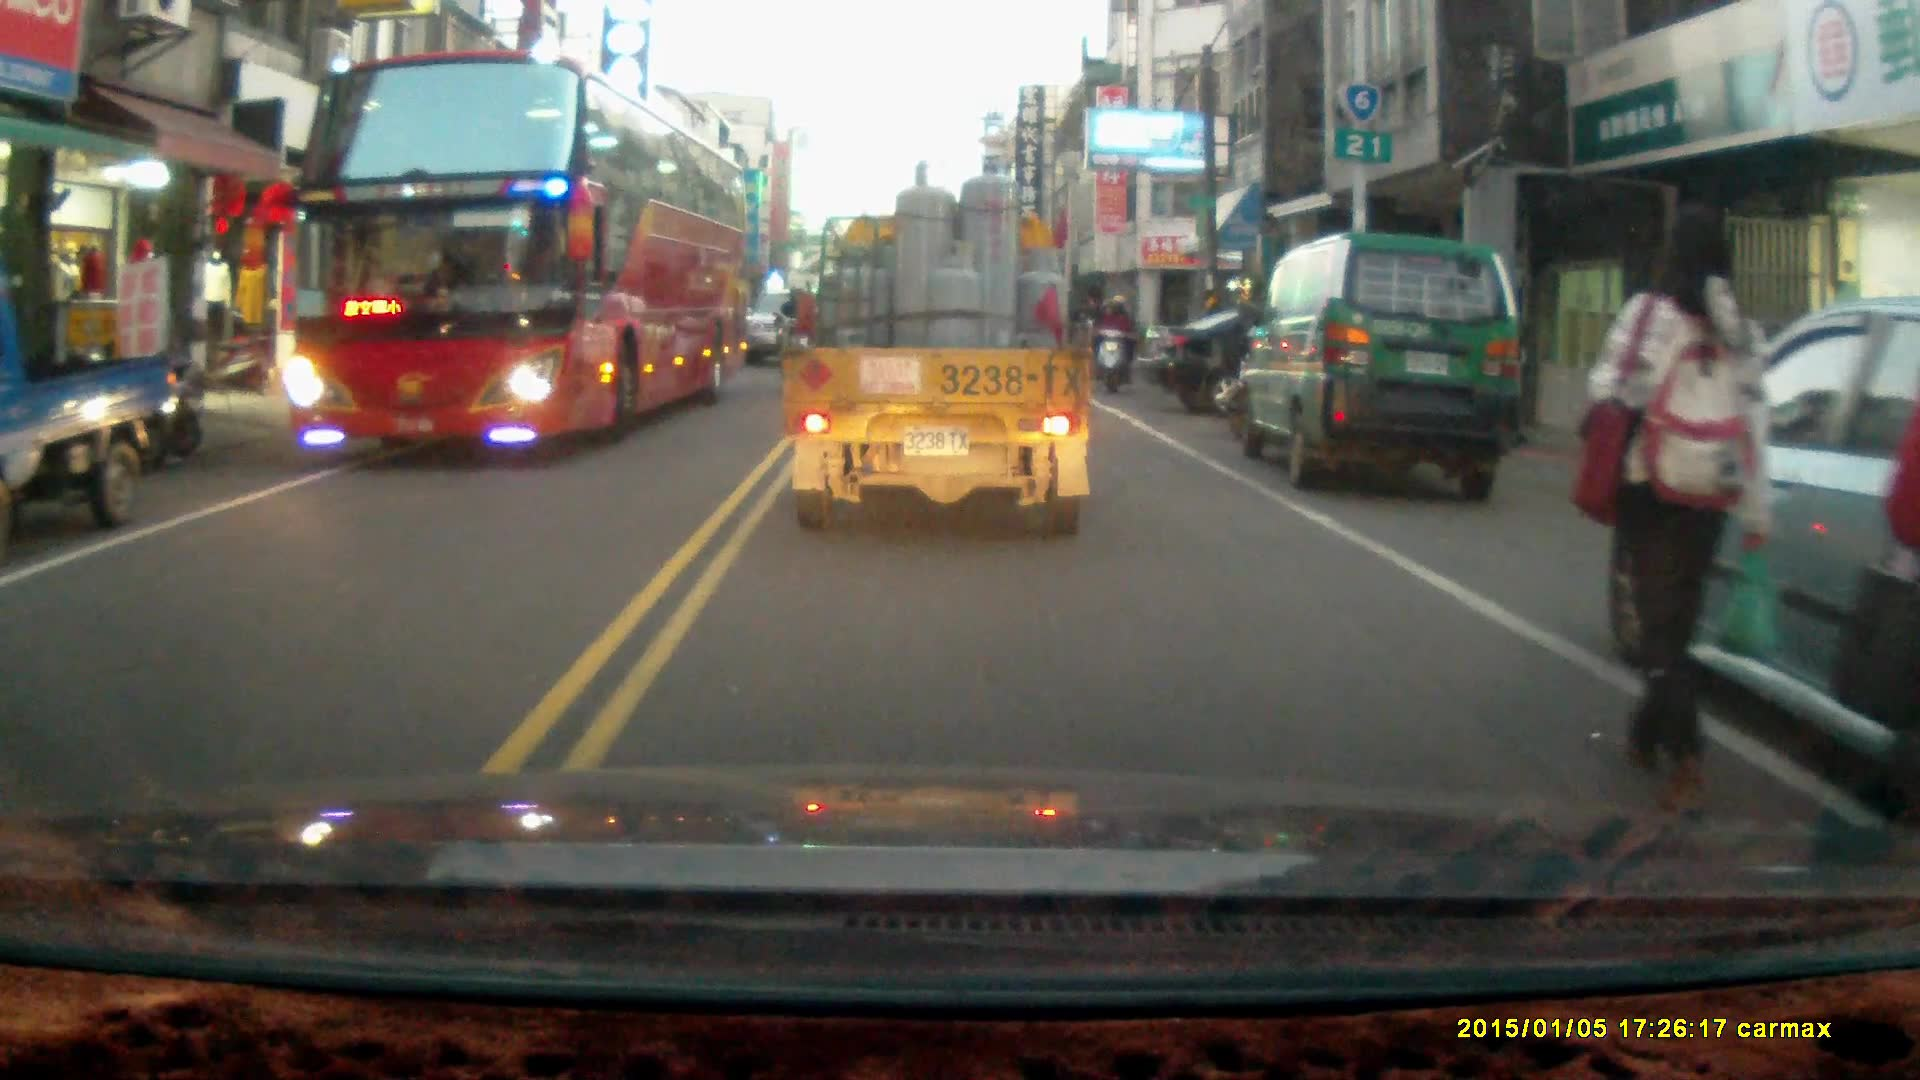pedestrian: (1580, 194, 1774, 812)
rider: (1088, 290, 1135, 390)
vehicle: (281, 53, 757, 459), (786, 154, 1096, 542), (1238, 230, 1523, 494), (1, 313, 181, 546), (1134, 304, 1439, 411)
